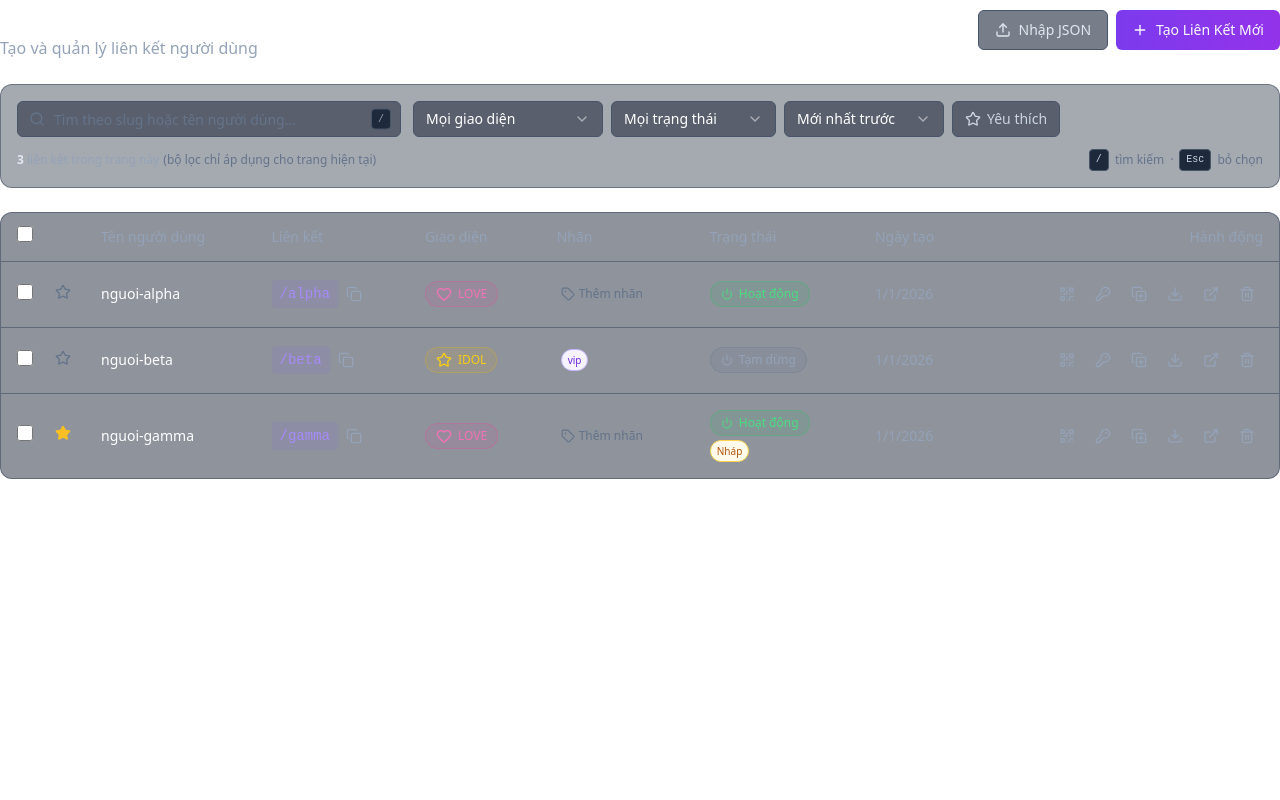
Test: LinksTable — thao tác từng dòng › xác nhận trước khi xoá một liên kết, có nêu slug
This screenshot has width=1280, height=800.
Click the button named "Xoá liên kết" in the row of "nguoi-alpha": (1247, 294) [1231,278,1263,310]
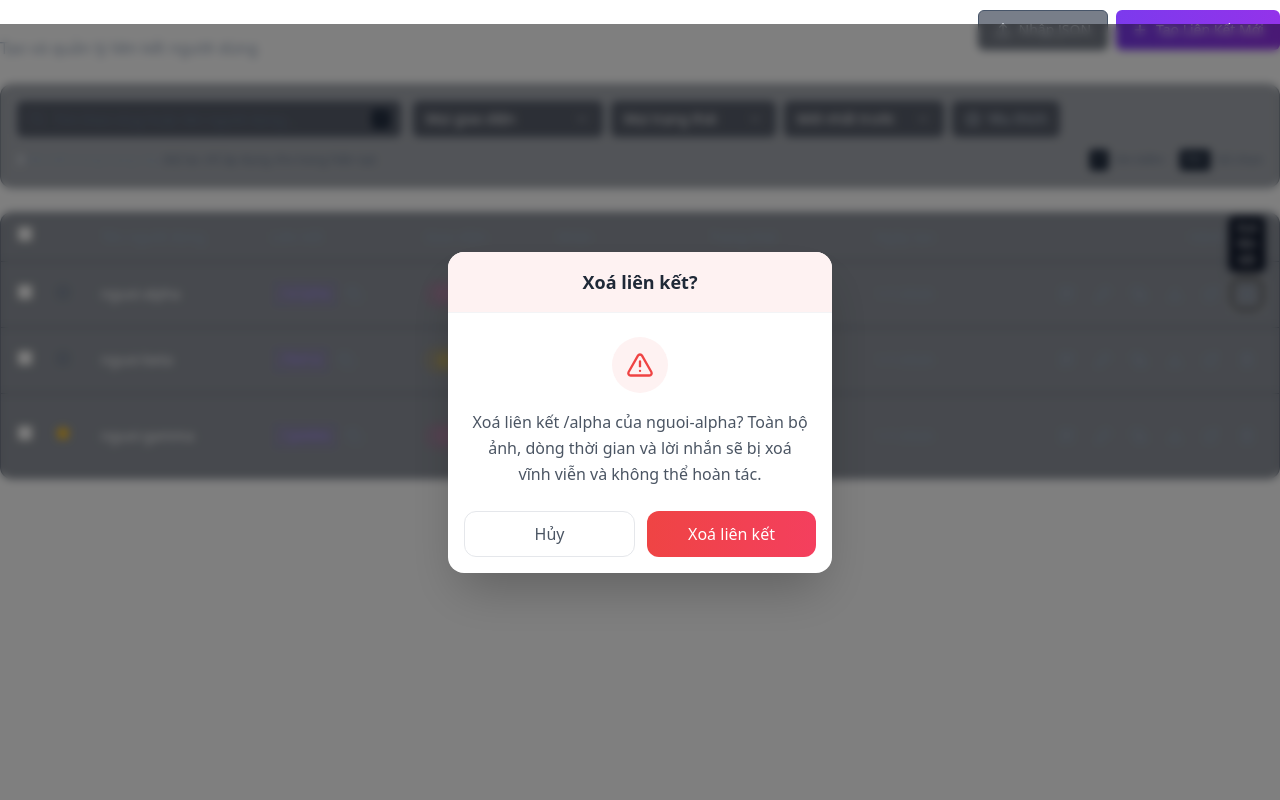
Now the text "nguoi-alpha" is shown, box [472,410,808,484]
